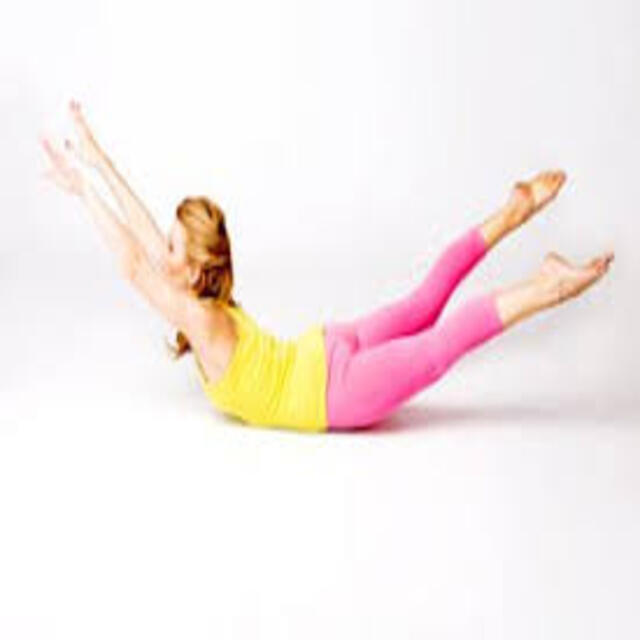Locust_Pose: (43, 100, 615, 435)
